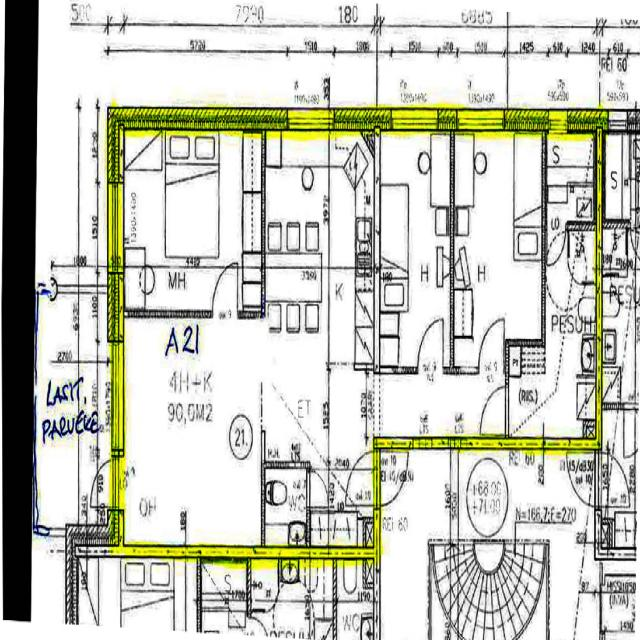door: (82, 458, 123, 506), (373, 453, 408, 507), (346, 453, 380, 507), (212, 262, 238, 318), (478, 319, 504, 372), (418, 319, 443, 372), (481, 386, 508, 433), (546, 221, 566, 266), (306, 471, 328, 506)
